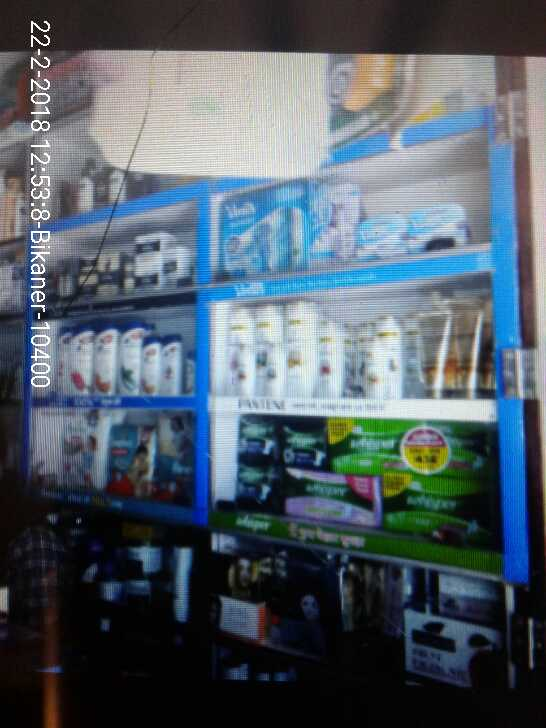venus: (220, 177, 306, 275), (312, 183, 358, 265), (359, 211, 411, 264), (411, 211, 474, 249)
